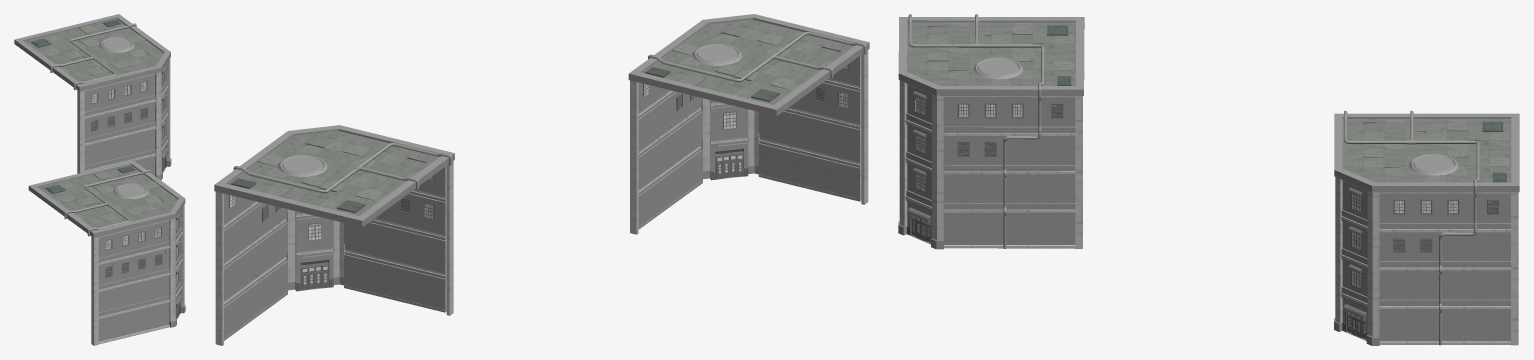
File: konohavill_CommonBuilding_G_2.fbx
3 views of the same model, side by side, from view 1: azimuth 30°, elevation 25°; view 2: azimuth 150°, elevation 25°; view 3: azimuth 270°, elevation 25° (orthographic). The views are drawn at different scales.
Parts seen in each view (by area): view 1: MERGED_SM_ENV_KNVLLG_CommonBuilding_G_2.mo; view 2: MERGED_SM_ENV_KNVLLG_CommonBuilding_G_2.mo; view 3: MERGED_SM_ENV_KNVLLG_CommonBuilding_G_2.mo.
Boxes of the visible parts, bbox=[...] form: MERGED_SM_ENV_KNVLLG_CommonBuilding_G_2.mo: bbox=[14, 14, 185, 345]; MERGED_SM_ENV_KNVLLG_CommonBuilding_G_2.mo: bbox=[214, 14, 869, 345]; MERGED_SM_ENV_KNVLLG_CommonBuilding_G_2.mo: bbox=[898, 14, 1519, 345].
Bounding box in the file's own units: 5751 × 2546 × 8806.
